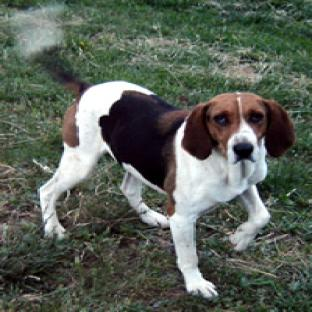Animal: (39, 60, 293, 296)
